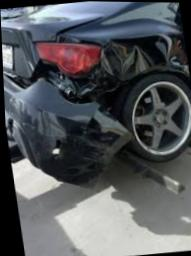Bumper: (3, 72, 132, 194)
Dickey: (1, 14, 101, 78)
Fender: (39, 34, 188, 101)
Light: (35, 41, 99, 78)
